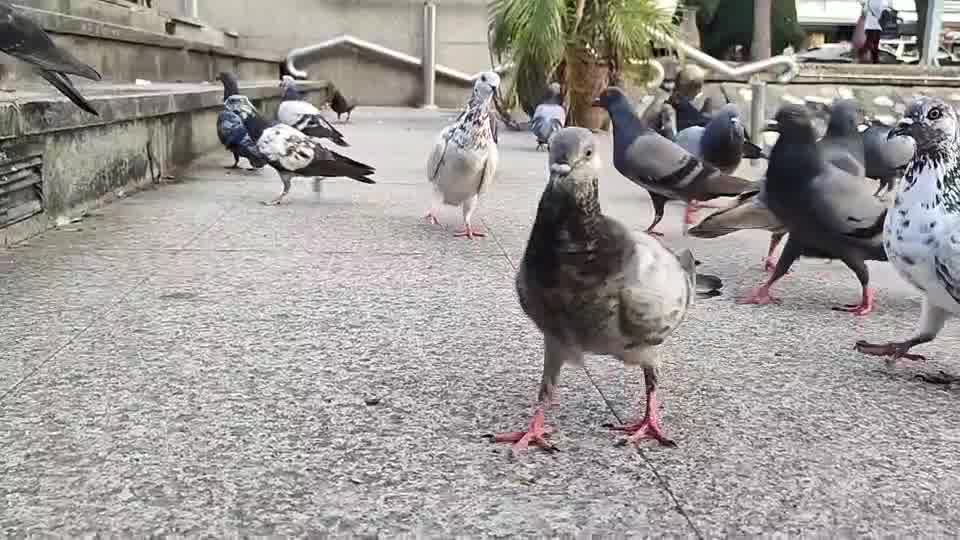Pigeon: (484, 124, 700, 454), (734, 101, 891, 316), (852, 94, 959, 364), (590, 85, 763, 237), (214, 70, 376, 206), (420, 70, 503, 240), (0, 0, 102, 116), (275, 74, 350, 147), (527, 82, 567, 151), (329, 88, 356, 121)
